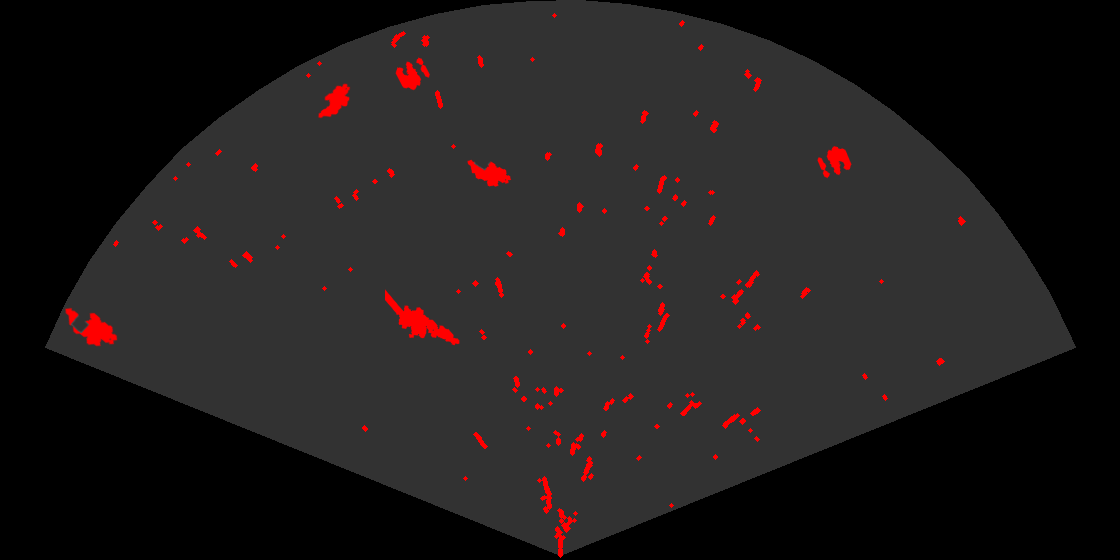AUV: (63, 306, 119, 348), (466, 158, 513, 188), (316, 82, 352, 120)
ball: (394, 56, 431, 92), (816, 145, 853, 180)
frogman: (385, 289, 461, 347)
